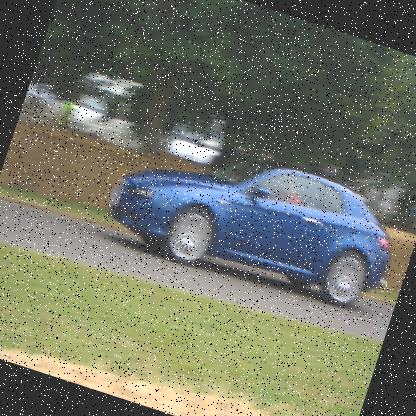Car: (95, 109, 414, 328)
